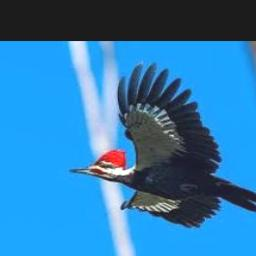Woodpecker: (70, 61, 256, 227)
